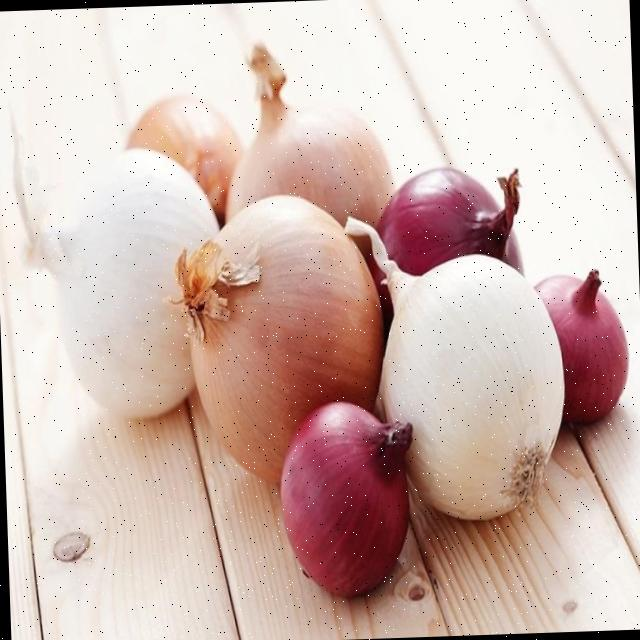Onion: (346, 217, 565, 520), (168, 194, 383, 480), (12, 123, 218, 417), (226, 41, 394, 224), (280, 402, 412, 596), (377, 166, 524, 275), (127, 96, 242, 225), (536, 269, 629, 421)
